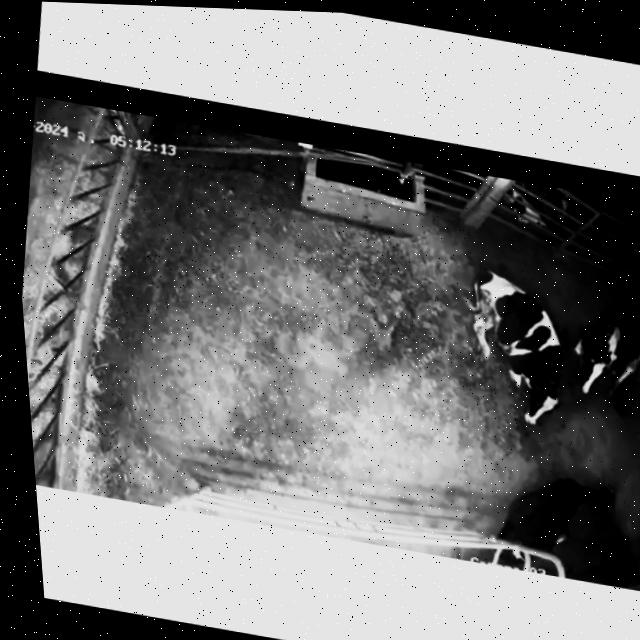lay: (438, 260, 591, 445), (484, 454, 630, 579), (561, 289, 640, 435)
